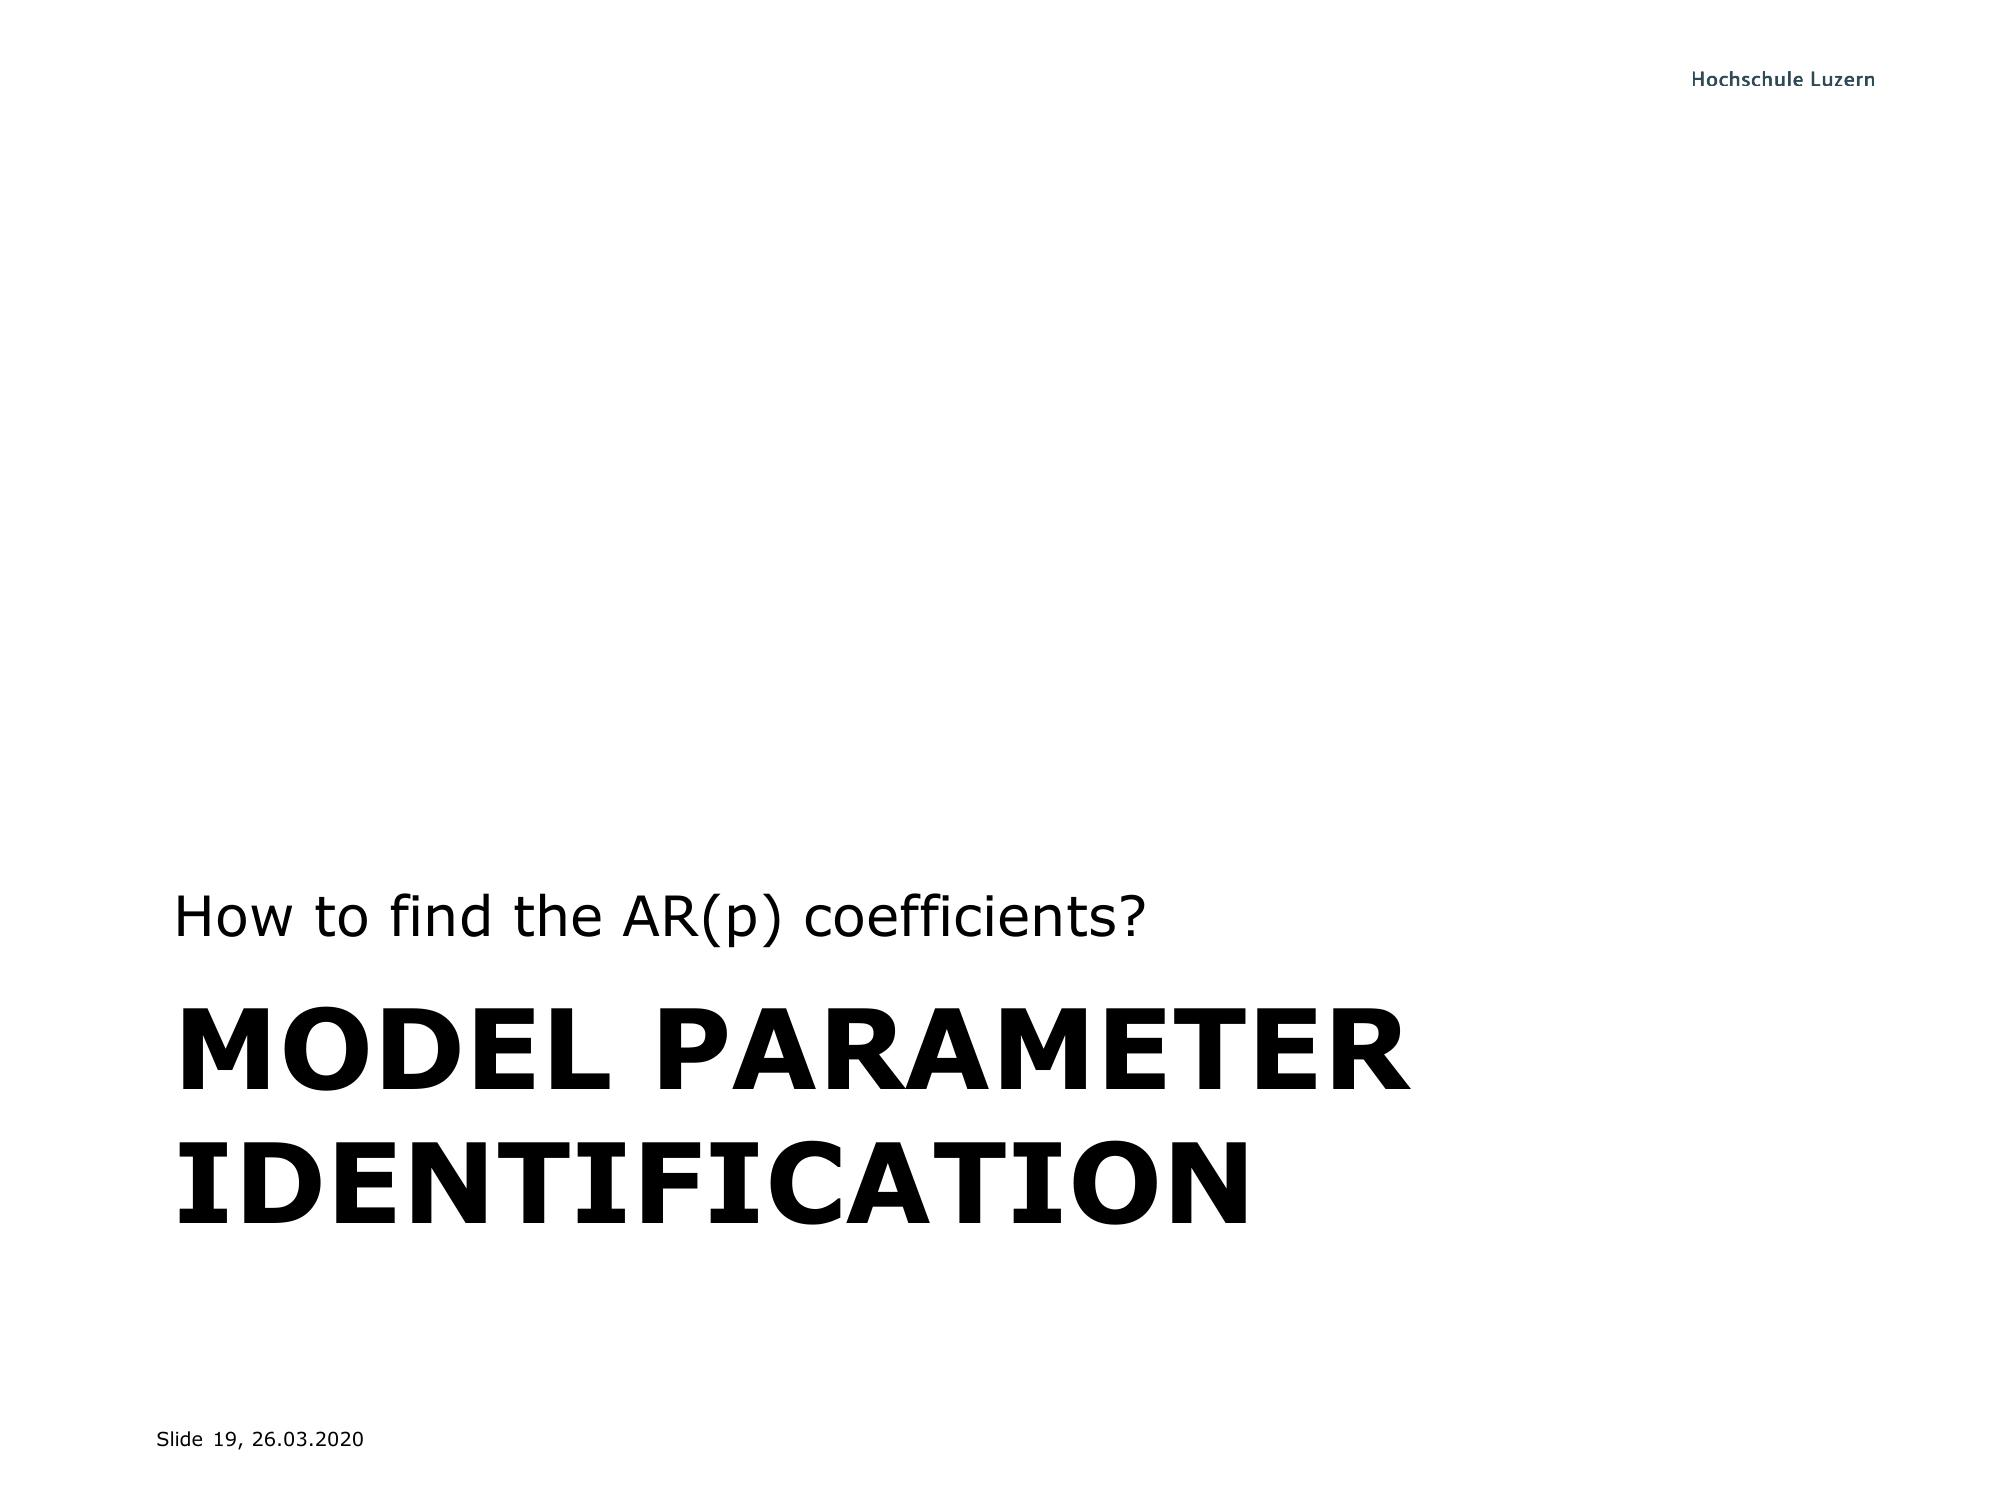Title: (157, 988, 1424, 1246)
